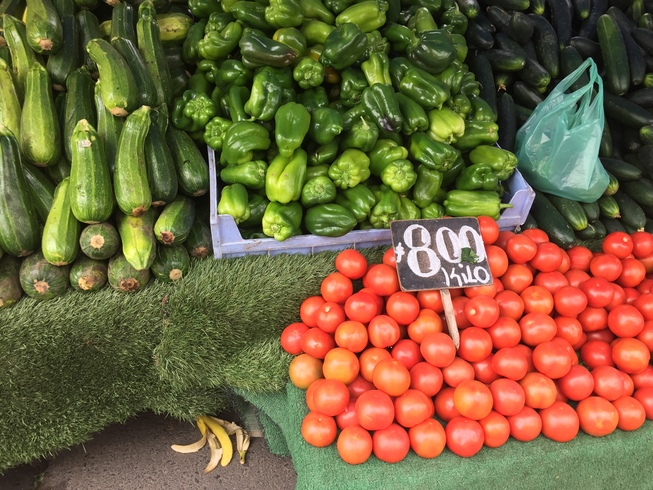precio: (387, 215, 496, 297)
